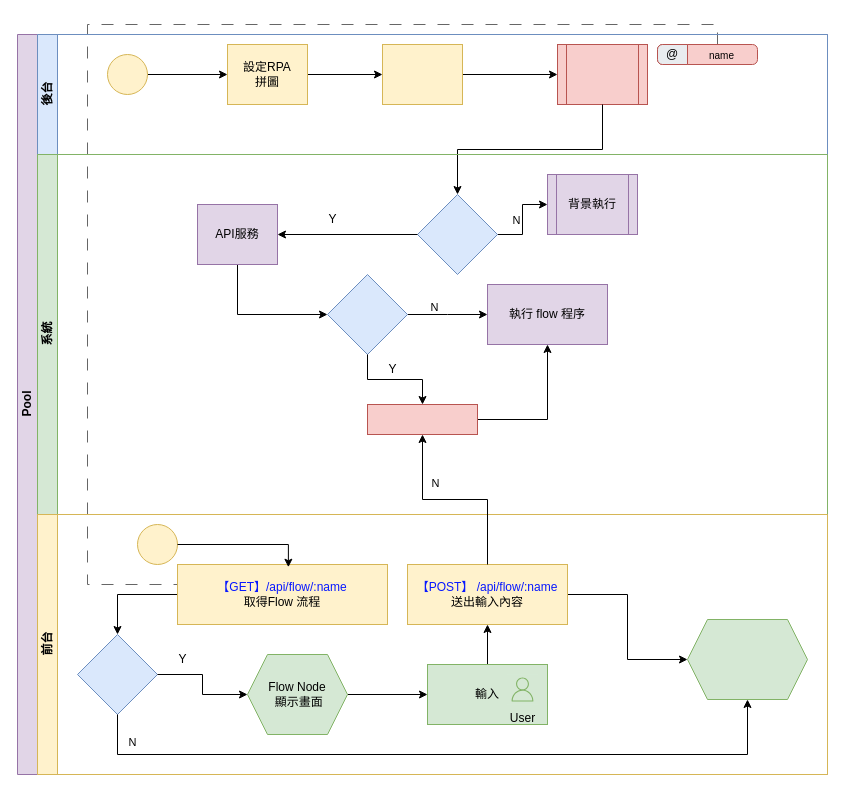
Image size: 845x792. Some labels were removed from this diagram. Each missing label, with the centre of its shape:
"完成設定" belongs at (422,74).
"是否顯示 輸入" belongs at (117,674).
"等待輸入" belongs at (422,419).
"起API服務" belongs at (457,234).
"輸出最後結果" belongs at (747,659).
"部屬" belongs at (602,74).
"需要輸入" belongs at (367,314).
